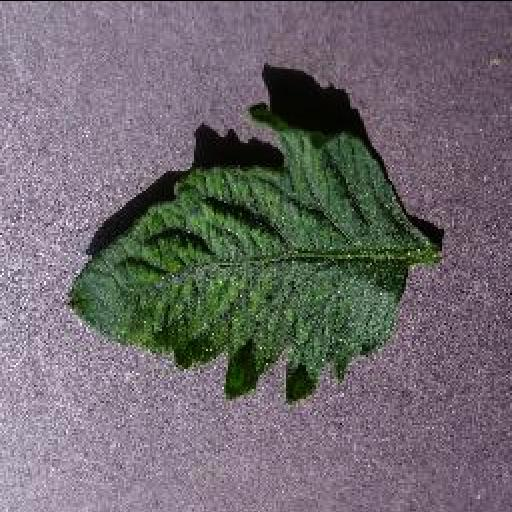Mosaic Virus: (61, 103, 435, 401)
